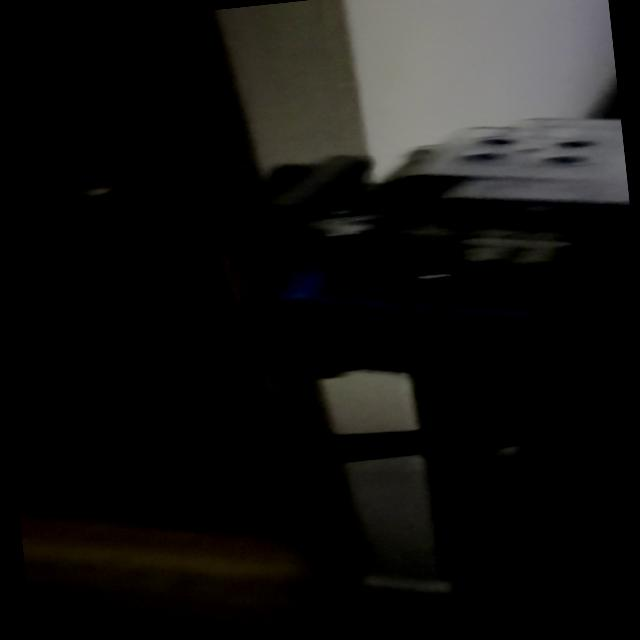mbot-detection: (123, 99, 640, 550)
